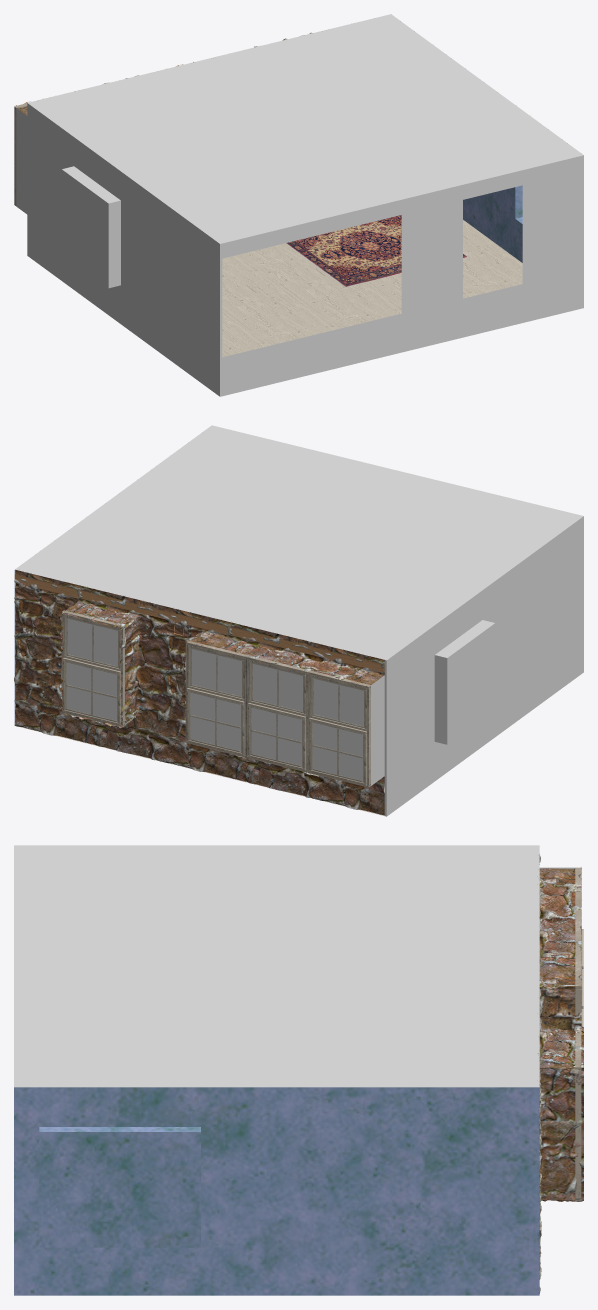
File: walls.glb
The picture shows the model from 3 angles, top to bottom: view 1: azimuth 30°, elevation 25°; view 2: azimuth 150°, elevation 25°; view 3: azimuth 270°, elevation 25°; orthographic projection. The views are drawn at different scales.
Visible parts, largest first — view 1: Walls, Walls.003, persian_carpet, Walls.001; view 2: Walls, Walls.002, Wall window center#2 2x3.003, Wall window center#2 2x3.005, Wall window center#2 2x3.001, Wall window center#2 2x3.007, Poutres, Wall window center#2 2x3.006, Wall window center#2 2x3.002, Wall window center#2 2x3, Wall window center#2 2x3.004; view 3: Walls, Walls.001, Walls.002, Wall window center#2 2x3.
Boxes of the visible parts, left/top/right/bottom form: Walls: left=16, top=14, right=583, bottom=396; Walls.003: left=222, top=220, right=522, bottom=357; persian_carpet: left=285, top=215, right=467, bottom=286; Walls.001: left=463, top=185, right=522, bottom=262; Walls: left=15, top=425, right=583, bottom=816; Walls.002: left=14, top=570, right=384, bottom=815; Wall window center#2 2x3.003: left=190, top=649, right=241, bottom=750; Wall window center#2 2x3.005: left=252, top=664, right=302, bottom=765; Wall window center#2 2x3.001: left=67, top=618, right=117, bottom=720; Wall window center#2 2x3.007: left=313, top=678, right=363, bottom=780; Poutres: left=14, top=573, right=384, bottom=672; Wall window center#2 2x3.006: left=308, top=670, right=370, bottom=787; Wall window center#2 2x3.002: left=185, top=641, right=248, bottom=757; Wall window center#2 2x3: left=61, top=610, right=124, bottom=727; Wall window center#2 2x3.004: left=246, top=655, right=307, bottom=772; Walls: left=14, top=845, right=575, bottom=1087; Walls.001: left=14, top=1087, right=539, bottom=1295; Walls.002: left=538, top=854, right=583, bottom=1293; Wall window center#2 2x3: left=575, top=1030, right=581, bottom=1201.
Size of the model in its own units: 7.88 by 3 by 7.44.
Materials: 9 (7 with a texture image).
